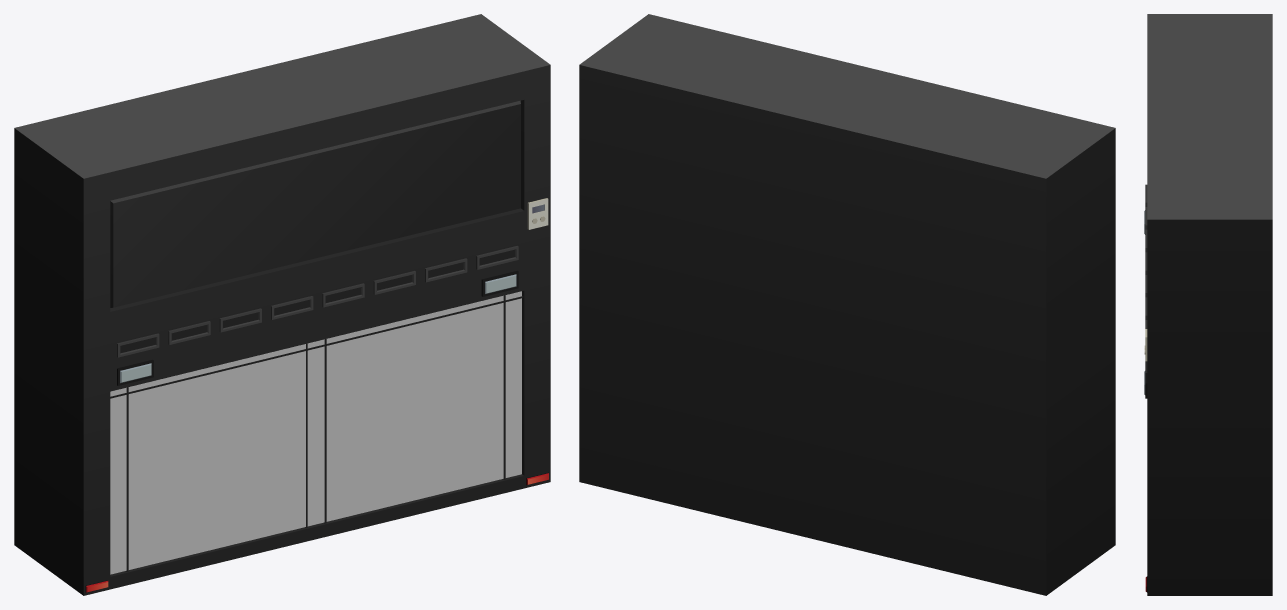
The model's file is CR_sci_Cabinet_002.FBX.
3 views of the same model, side by side, from view 1: azimuth 30°, elevation 25°; view 2: azimuth 150°, elevation 25°; view 3: azimuth 270°, elevation 25° (orthographic). The views are drawn at different scales.
Visible parts, largest first — view 1: CR_sci_Cabinet_002, CR_sci_Cabinet_002_al; view 2: CR_sci_Cabinet_002; view 3: CR_sci_Cabinet_002.
Boxes of the visible parts, x1=… form: CR_sci_Cabinet_002: x1=14, y1=14, x2=550, y2=595; CR_sci_Cabinet_002_al: x1=110, y1=291, x2=521, y2=574; CR_sci_Cabinet_002: x1=579, y1=14, x2=1115, y2=595; CR_sci_Cabinet_002: x1=1144, y1=14, x2=1272, y2=595.
Bounding box in the file's own units: 144 × 123 × 37.85.
